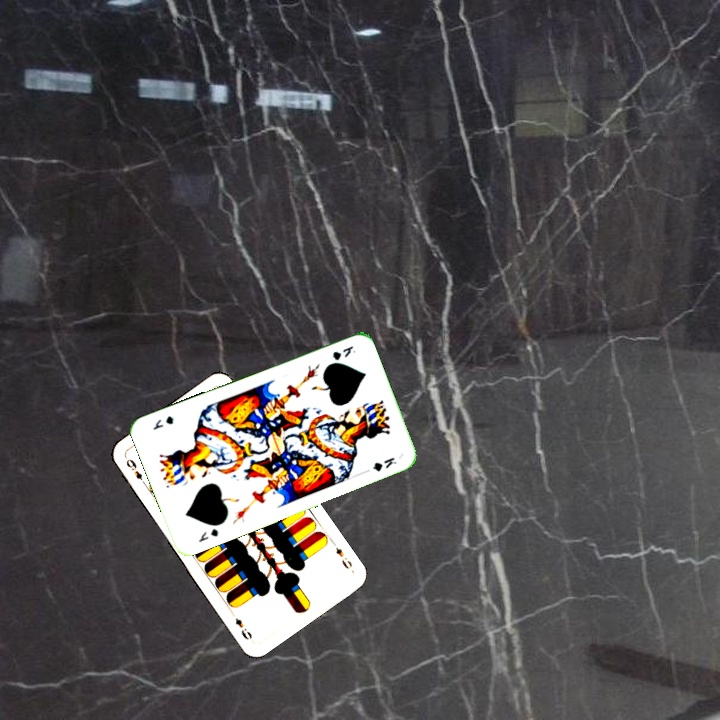E9: (122, 455, 149, 489), (328, 538, 355, 572)
GK: (328, 342, 358, 363), (194, 524, 221, 545)
